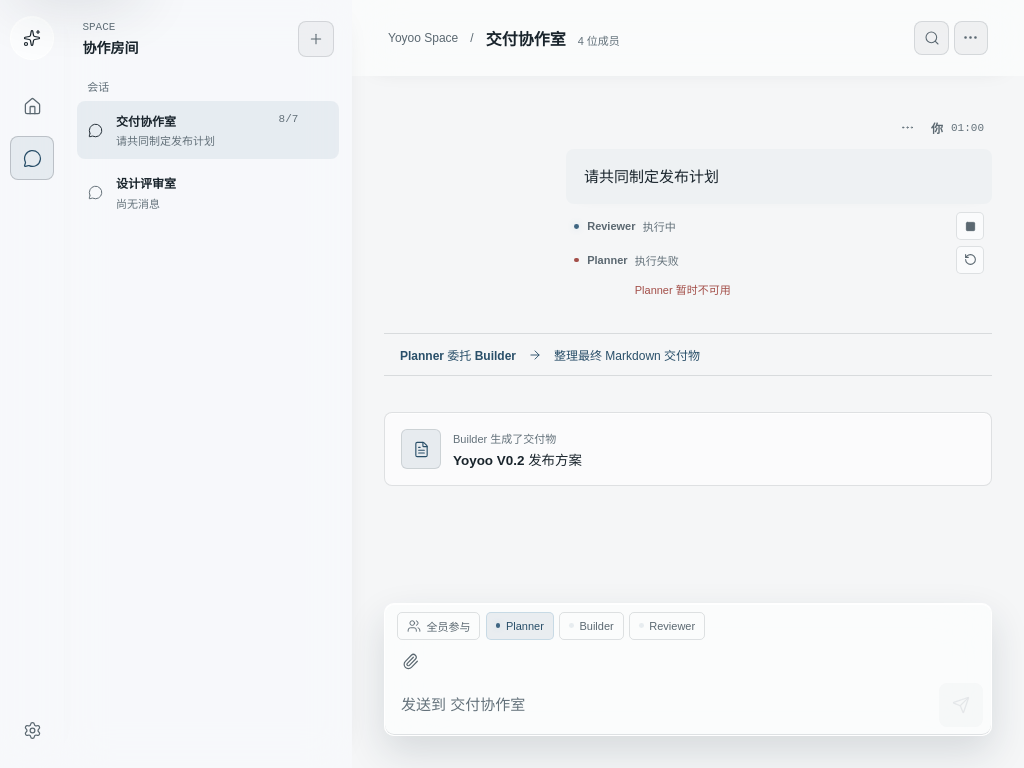
it: CollaborationRoom › ignores a stale run refresh after the user switches rooms
Expected: the heading "交付协作室" is shown, [486,26,566,50]
Click the button with aria-label "切换到设计评审室": click(192, 192) [77,164,307,221]
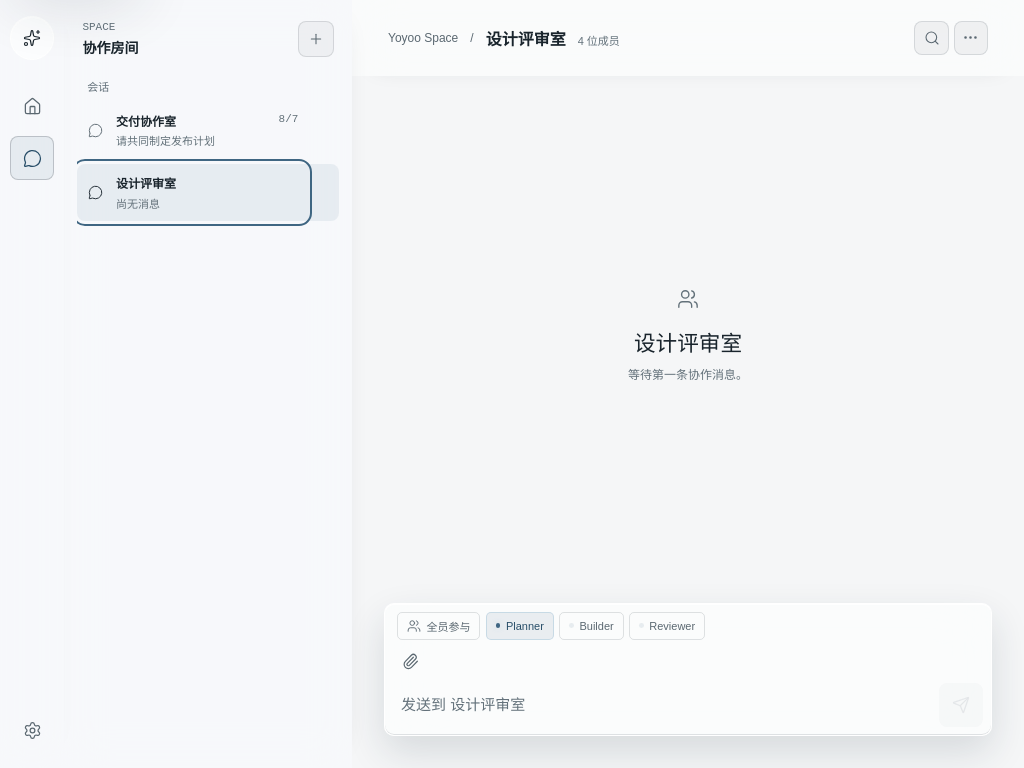
Expected: the heading "设计评审室" in the row of "位成员" is shown, [486,26,566,50]
